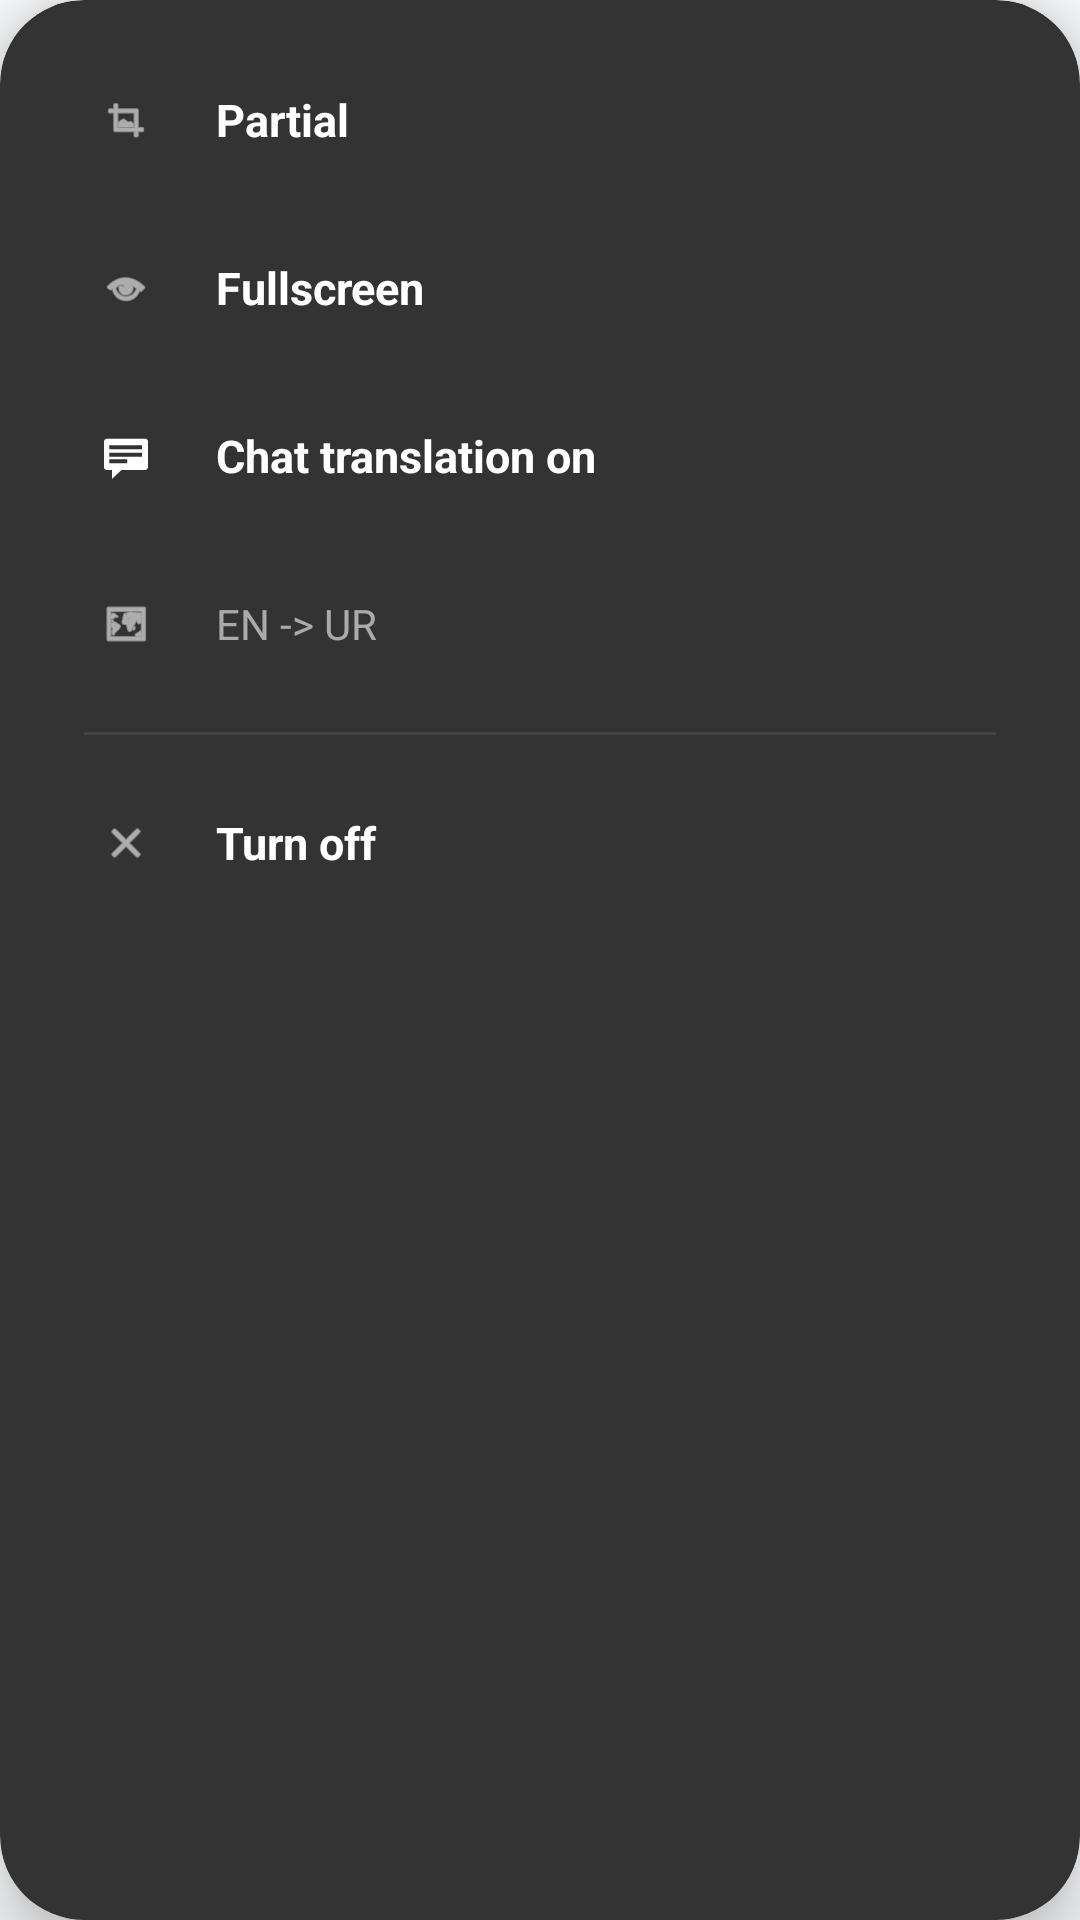

Where icons sit on this 1080 × 1920 app screen, as (x1, y1, x2, y2):
close clear cancel: (111, 828, 141, 858)
crop: (108, 103, 144, 138)
mapmode: (106, 606, 146, 642)
view: (106, 277, 146, 302)
